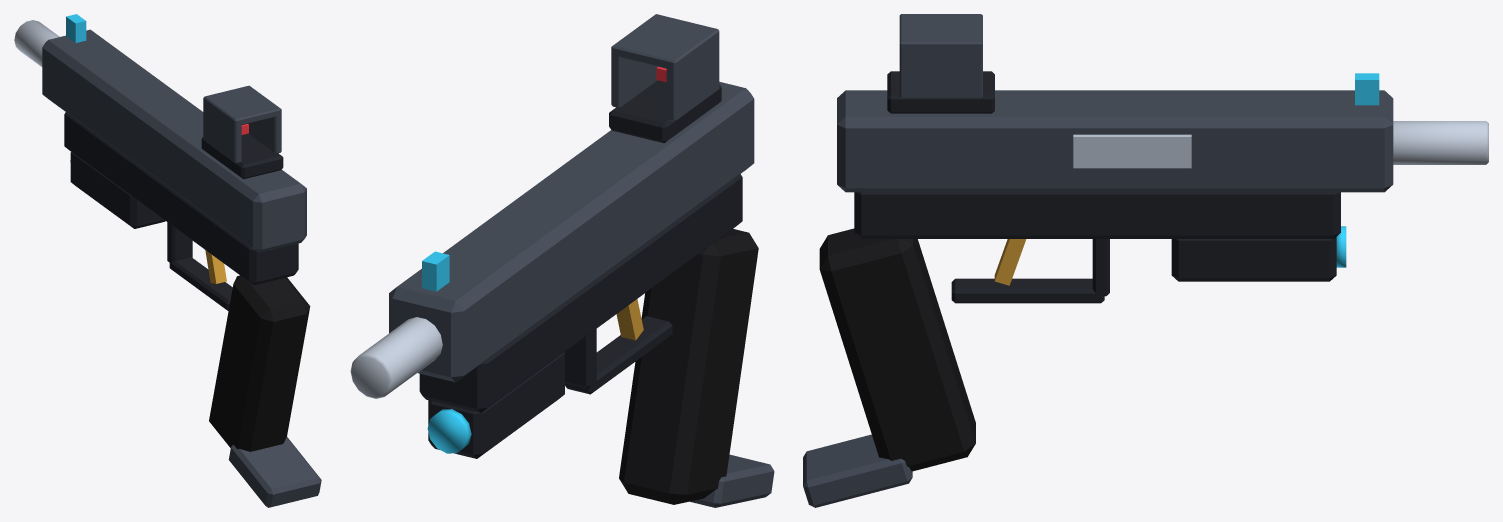
The model's file is gun_pistol.obj.
The picture shows the model from 3 angles, left to right: view 1: azimuth 30°, elevation 25°; view 2: azimuth 150°, elevation 25°; view 3: azimuth 270°, elevation 25°; orthographic projection. The views are drawn at different scales.
Visible parts, largest first — view 1: Slide, Grip, Frame, MagFloor, TacLight, OpticT, OpticBase, OpticL, TrigGuardB, Barrel, OpticR, TrigGuardF (+2 smaller); view 2: Slide, Grip, Frame, TacLight, Barrel, OpticT, OpticBase, OpticL, TrigGuardB, MagFloor, OpticR, LightLens (+3 smaller); view 3: Slide, Grip, Frame, TacLight, MagFloor, OpticR, Barrel, Eject, TrigGuardB, OpticT, OpticBase, TrigGuardF (+2 smaller).
Part boxes in pixels (bbox=[...]): Slide: bbox=[42, 29, 306, 252]; Grip: bbox=[209, 275, 310, 451]; Frame: bbox=[64, 112, 298, 285]; MagFloor: bbox=[228, 437, 321, 507]; TacLight: bbox=[70, 152, 165, 228]; OpticT: bbox=[203, 85, 281, 124]; OpticBase: bbox=[201, 133, 283, 179]; OpticL: bbox=[203, 100, 241, 163]; TrigGuardB: bbox=[169, 257, 232, 310]; Barrel: bbox=[14, 20, 59, 66]; OpticR: bbox=[248, 112, 281, 153]; TrigGuardF: bbox=[167, 222, 192, 263]; Slide: bbox=[389, 81, 754, 382]; Grip: bbox=[619, 229, 758, 504]; Frame: bbox=[419, 174, 742, 412]; TacLight: bbox=[428, 352, 564, 458]; Barrel: bbox=[350, 317, 442, 398]; OpticT: bbox=[611, 14, 719, 69]; OpticBase: bbox=[609, 80, 721, 143]; OpticL: bbox=[666, 35, 719, 121]; TrigGuardB: bbox=[565, 316, 672, 394]; MagFloor: bbox=[690, 454, 774, 507]; OpticR: bbox=[611, 50, 657, 107]; LightLens: bbox=[427, 409, 471, 453]; Slide: bbox=[837, 90, 1393, 192]; Grip: bbox=[819, 228, 975, 471]; Frame: bbox=[854, 191, 1340, 238]; TacLight: bbox=[1171, 237, 1336, 281]; MagFloor: bbox=[803, 434, 912, 507]; OpticR: bbox=[899, 47, 982, 98]; Barrel: bbox=[1393, 121, 1488, 164]; Eject: bbox=[1073, 134, 1191, 168]; TrigGuardB: bbox=[951, 278, 1104, 303]; OpticT: bbox=[899, 14, 982, 50]; OpticBase: bbox=[887, 71, 994, 113]; TrigGuardF: bbox=[1092, 239, 1109, 296].
Size of the model in its own units: 0.049 by 0.2954 by 0.3945.
